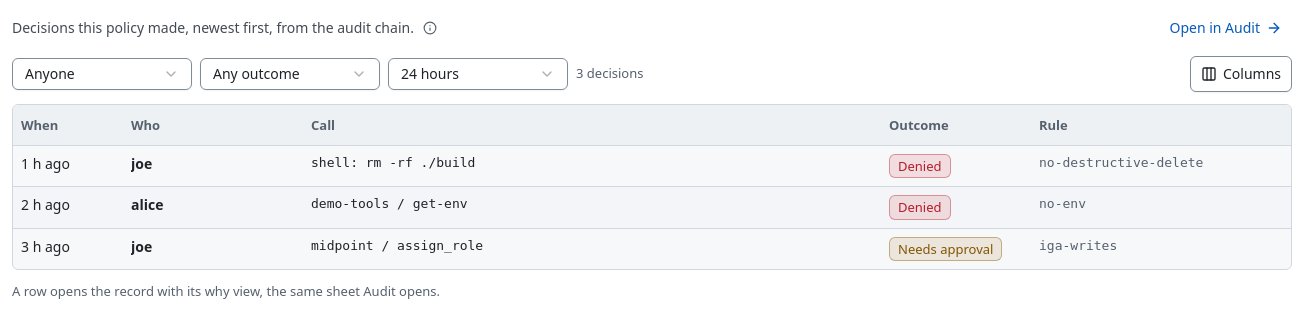
the Decisions tab › narrows to one outcome
Click the dropdown labelled "outcome" at (290, 74), box [200, 58, 380, 90]
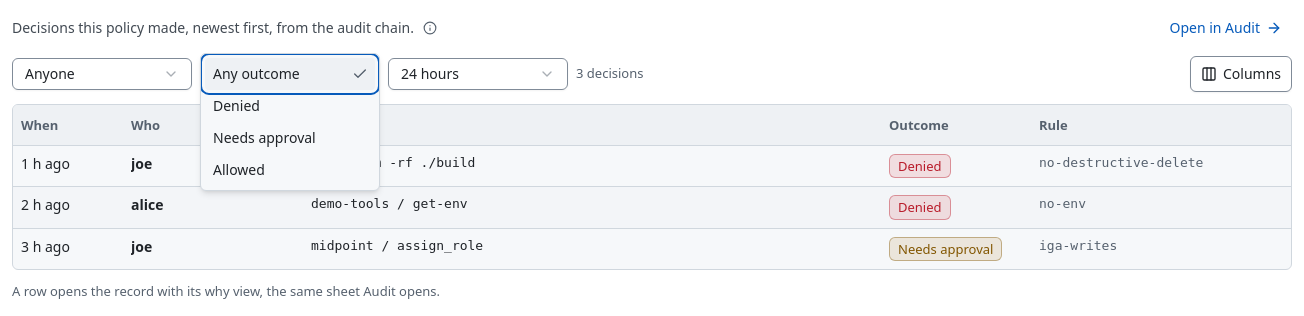
Click the option "Needs approval" at (264, 138), box [213, 128, 316, 147]
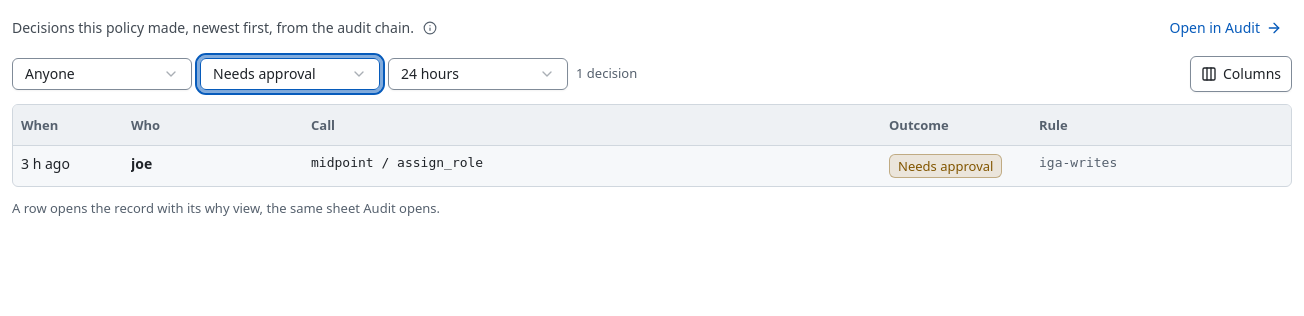
Click the dropdown named "Outcome" at (290, 74), box [200, 58, 380, 90]
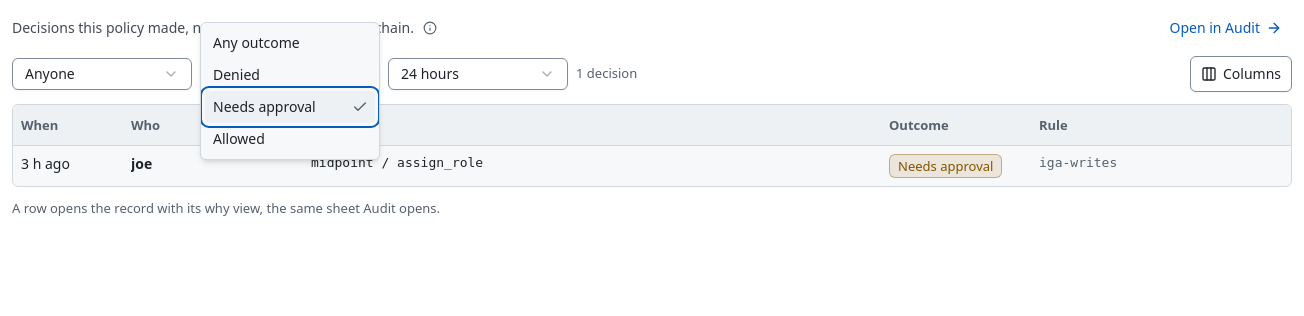
Click the option "Allowed" at (239, 138), box [213, 129, 265, 148]
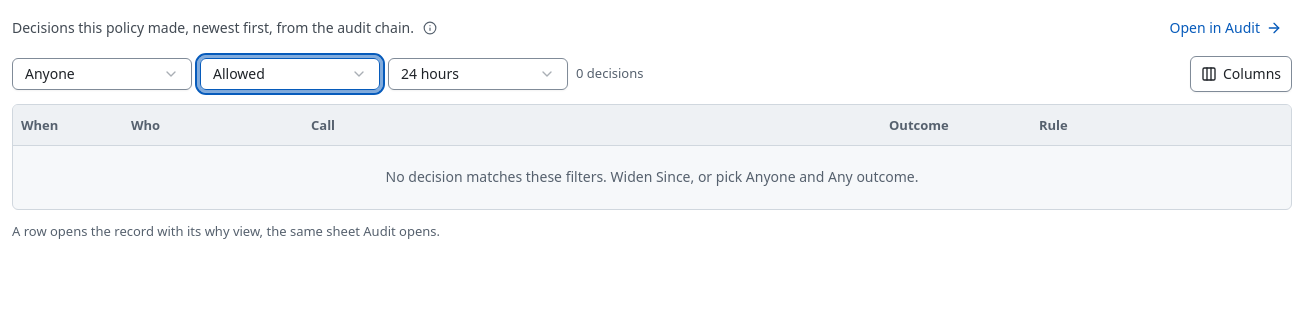
Expected: the cell reads "No decision matches these filters. Widen Since, or pick Anyone and Any outcome.", [386, 167, 918, 186]
